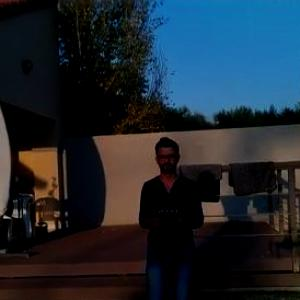follow: (133, 129, 210, 299)
